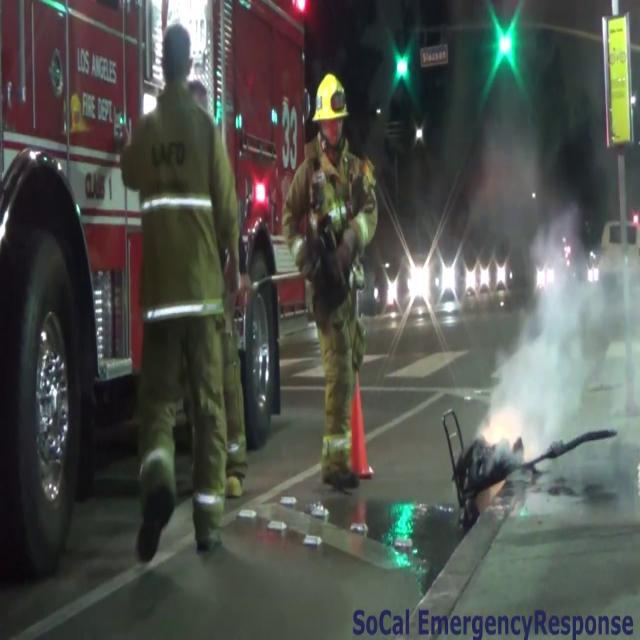Smoke: (482, 223, 639, 505)
